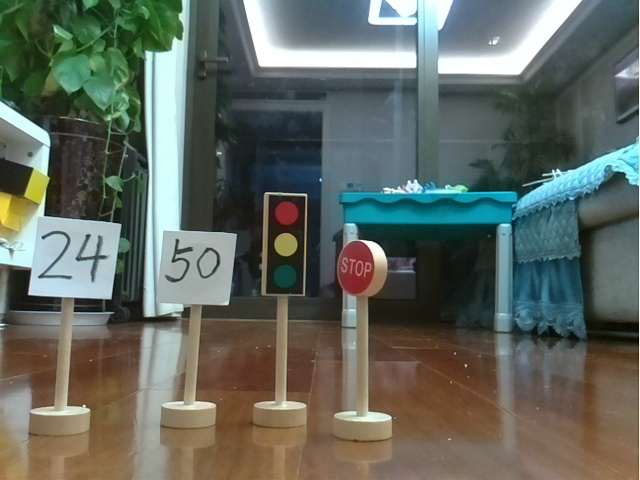Red Traffic Light: (250, 189, 315, 433)
Speed Limit 24: (22, 210, 124, 442)
Speed Limit 50: (149, 223, 239, 430)
Stop Sign: (331, 229, 399, 443)
